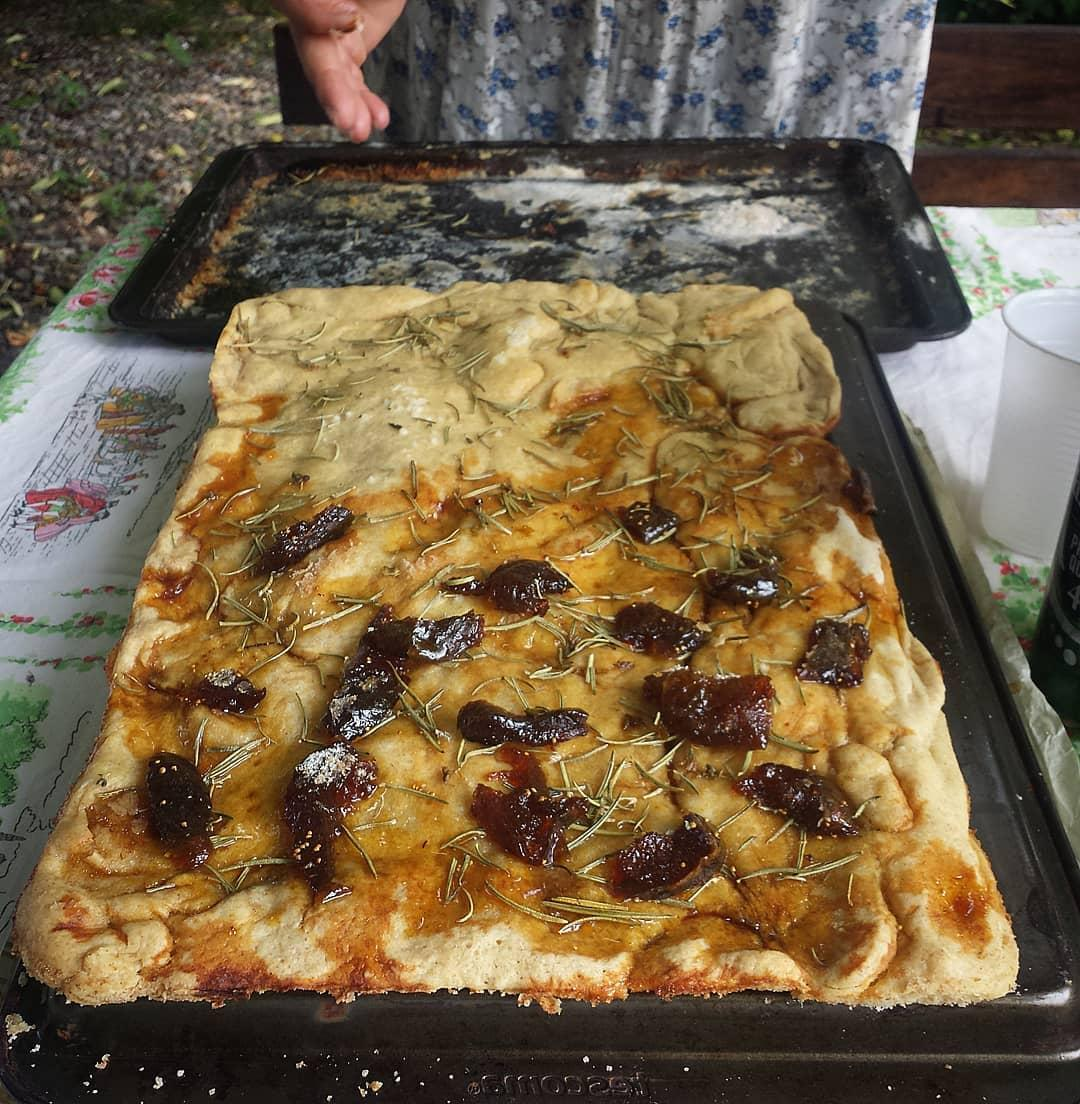Pizza: (22, 285, 1022, 1002)
